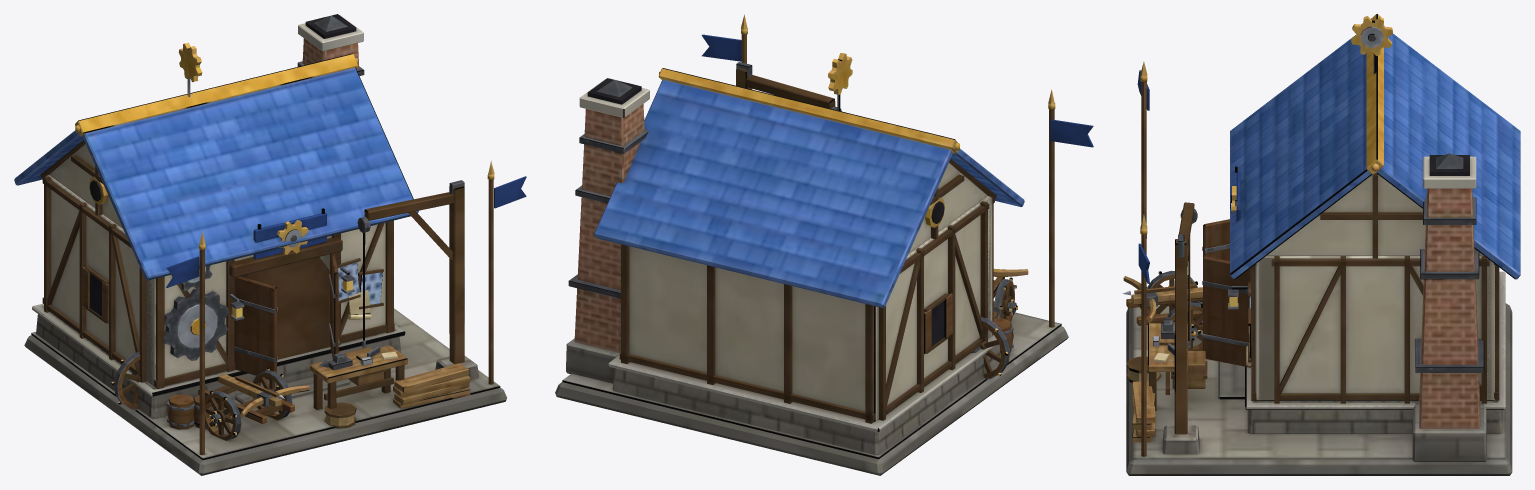
The model's file is workshop.glb.
3 views of the same model, side by side, from view 1: azimuth 30°, elevation 25°; view 2: azimuth 150°, elevation 25°; view 3: azimuth 270°, elevation 25° (orthographic). The views are drawn at different scales.
Visible parts, largest first — view 1: Static_Mesh, Anim_Banners; view 2: Static_Mesh, Anim_Banners; view 3: Static_Mesh, Anim_Banners.
Boxes of the visible parts, left/top/right/bottom form: Static_Mesh: left=14, top=14, right=506, bottom=475; Anim_Banners: left=166, top=176, right=526, bottom=287; Static_Mesh: left=555, top=14, right=1068, bottom=475; Anim_Banners: left=701, top=34, right=1093, bottom=147; Static_Mesh: left=1122, top=14, right=1520, bottom=475; Anim_Banners: left=1137, top=70, right=1240, bottom=283.
Bounding box in the file's own units: 8.56 × 7.29 × 7.49.
Materials: 2 (2 with a texture image).
